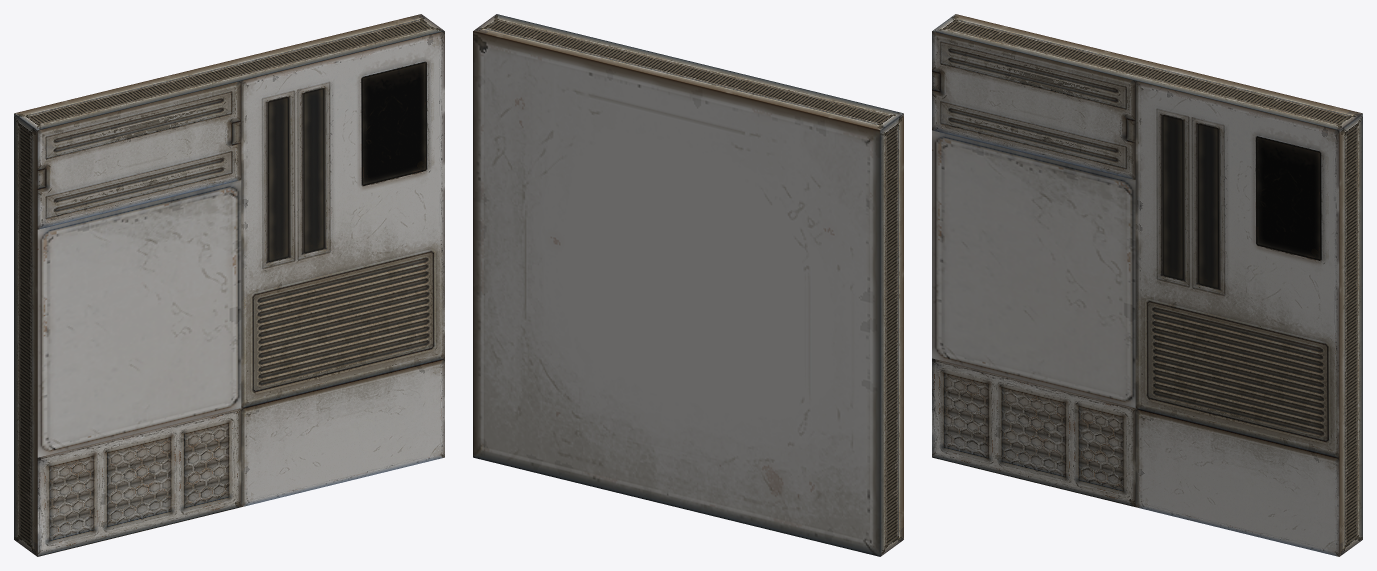
The model's file is scifi_wall8_2.FBX.
The picture shows the model from 3 angles, left to right: view 1: azimuth 30°, elevation 25°; view 2: azimuth 150°, elevation 25°; view 3: azimuth 330°, elevation 25°; orthographic projection.
Visible parts, largest first — view 1: Plane035; view 2: Plane035; view 3: Plane035.
Part boxes in pixels (x1,y1,x2,y2): Plane035: [14, 14, 444, 556]; Plane035: [473, 14, 903, 556]; Plane035: [932, 14, 1362, 556].
Size of the model in its own units: 254 by 254 by 25.4.
